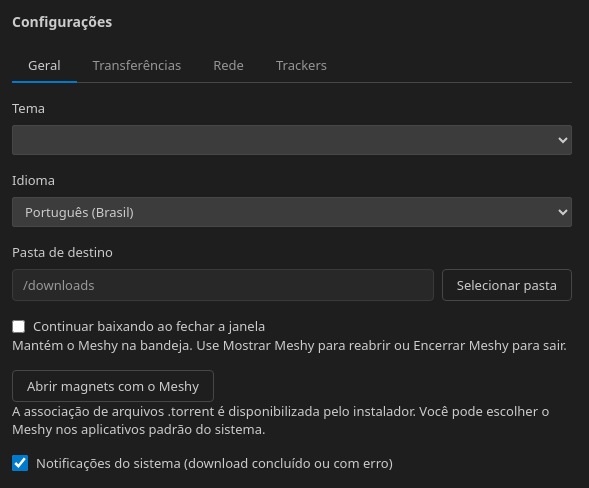
Scenario: SettingsPanel — seção Rede avançada › exibe texto informativo sobre reinício do motor abaixo dos toggles
The width and height of the screenshot is (589, 488).
What coordinates should you click on to do the following:
click the tab "Rede"
I would click on:
 (229, 65)
Its box is top-left (197, 48), bottom-right (260, 82).
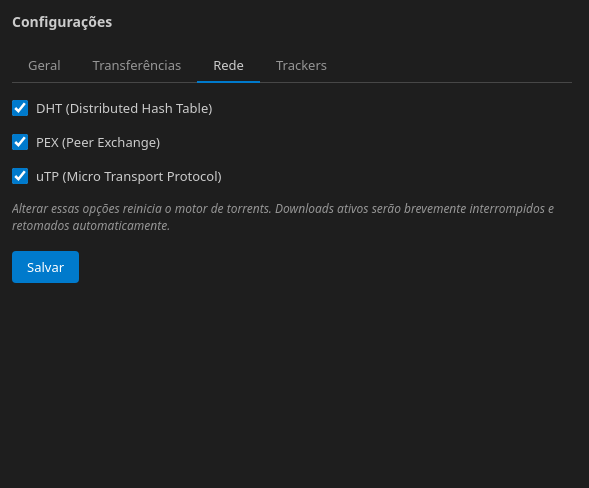
Check: the text "Alterar essas opções reinicia o motor de torrents" is shown, box top-left (12, 200), bottom-right (554, 234)
